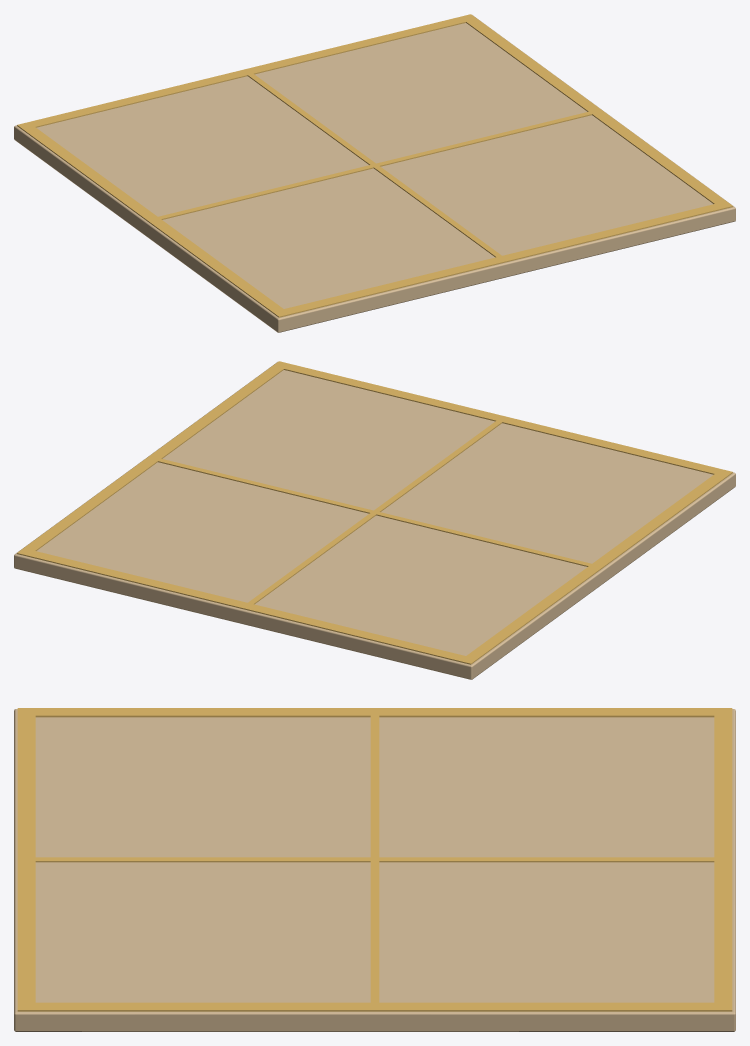
3 renders of one model, top to bottom at view 1: azimuth 30°, elevation 25°; view 2: azimuth 150°, elevation 25°; view 3: azimuth 270°, elevation 25°, orthographic. The views are drawn at different scales.
Parts seen in each view (by area): view 1: shop-floor-tile-wood; view 2: shop-floor-tile-wood; view 3: shop-floor-tile-wood.
Part boxes in pixels (box(x1,y1,x2,y2)): shop-floor-tile-wood: box(14, 14, 735, 332); shop-floor-tile-wood: box(14, 361, 735, 679); shop-floor-tile-wood: box(14, 708, 735, 1031).
Size of the model in its own units: 2 by 0.0646 by 2.
